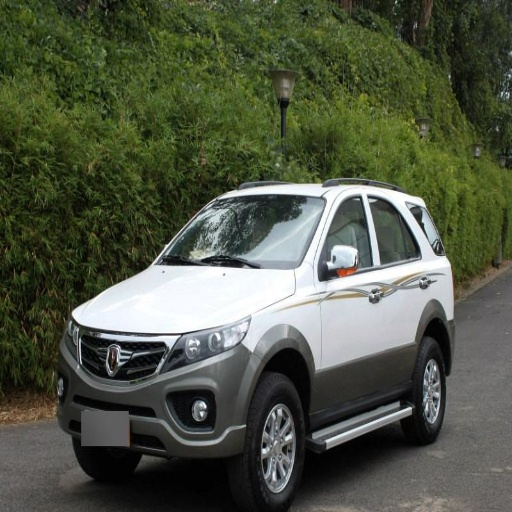front_bumper: (57, 323, 259, 455)
front_glass: (158, 194, 325, 267)
front_left_door: (314, 191, 384, 418)
